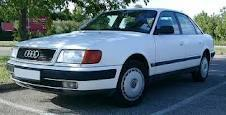Car: (6, 5, 223, 108)
